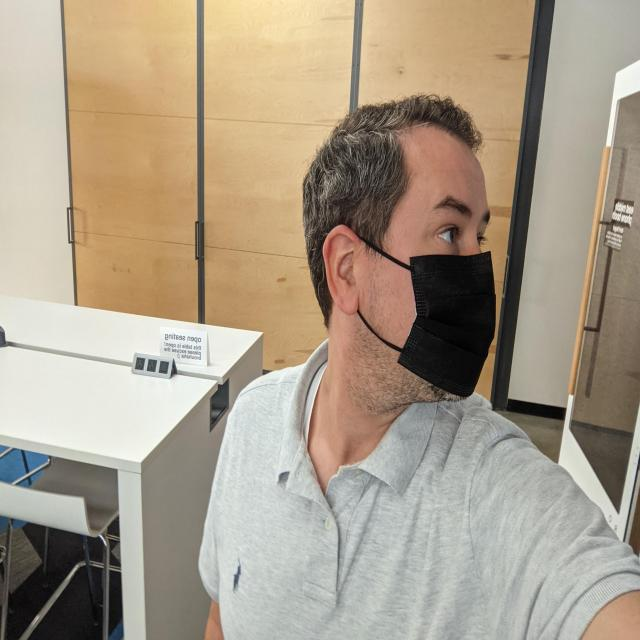face: (346, 143, 498, 402)
